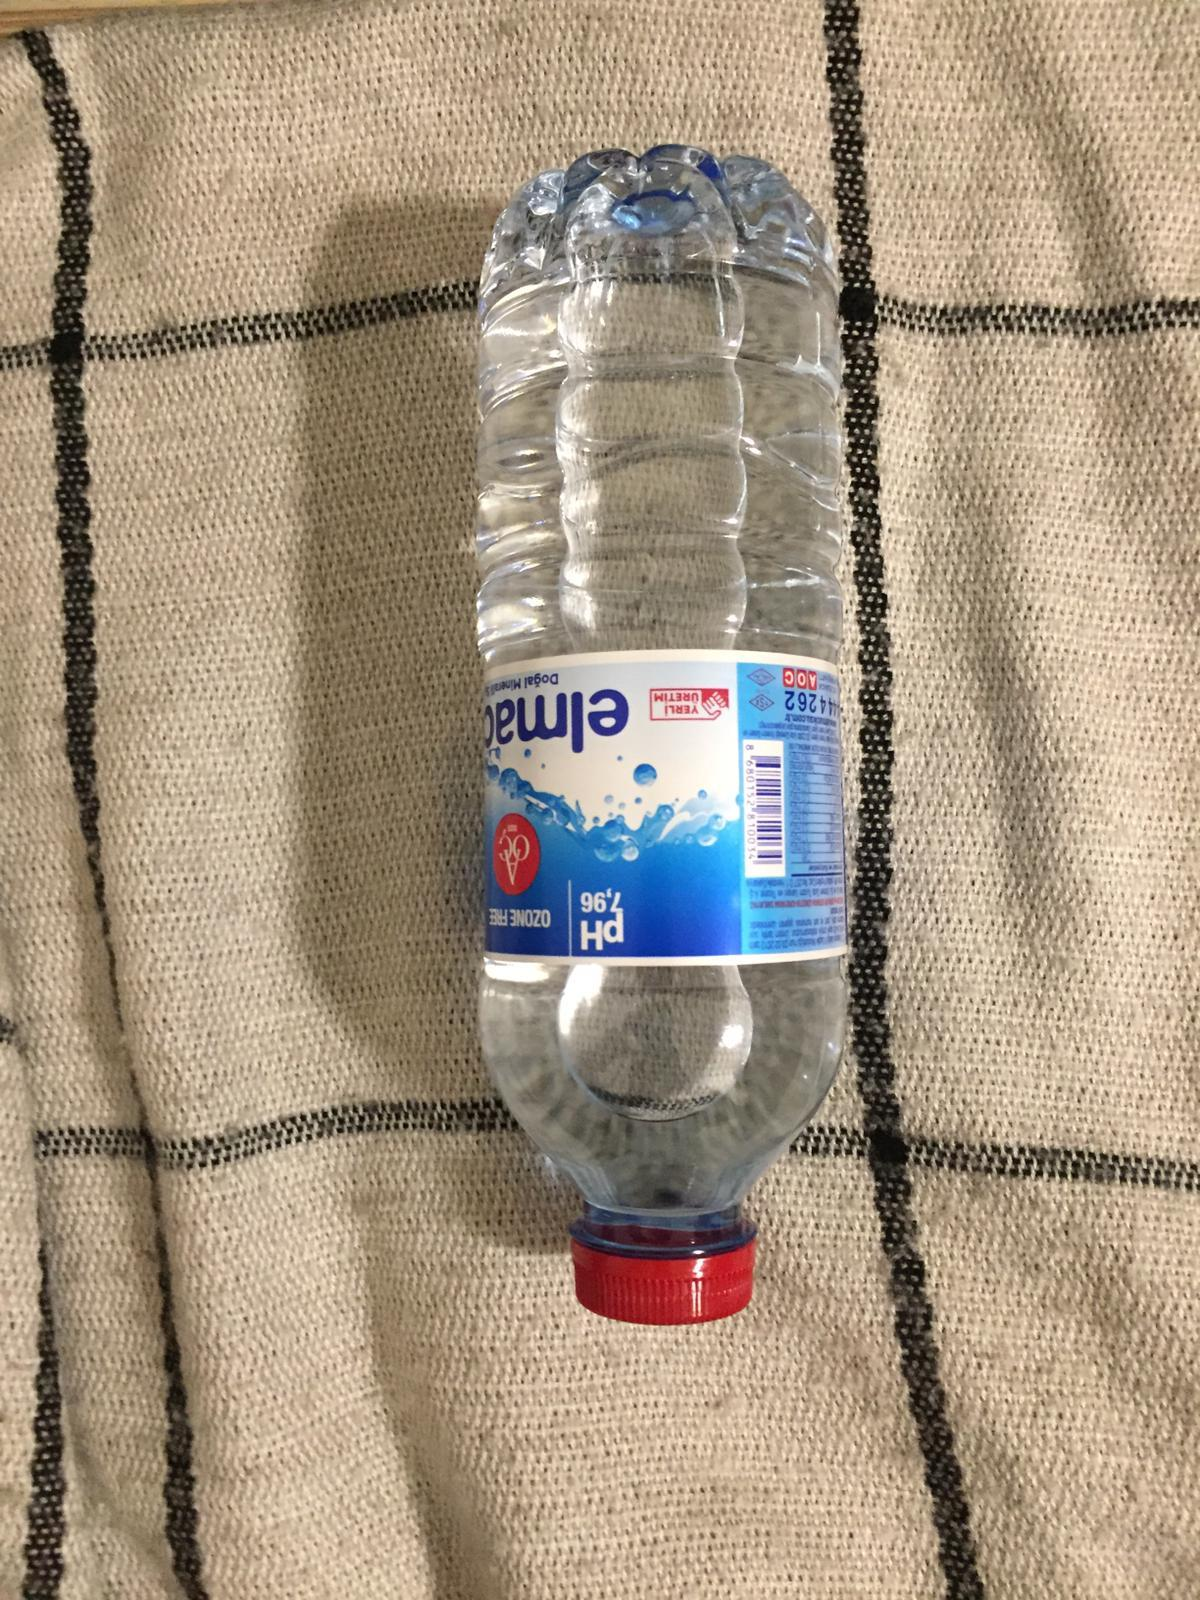bottle: (478, 147, 847, 1329)
